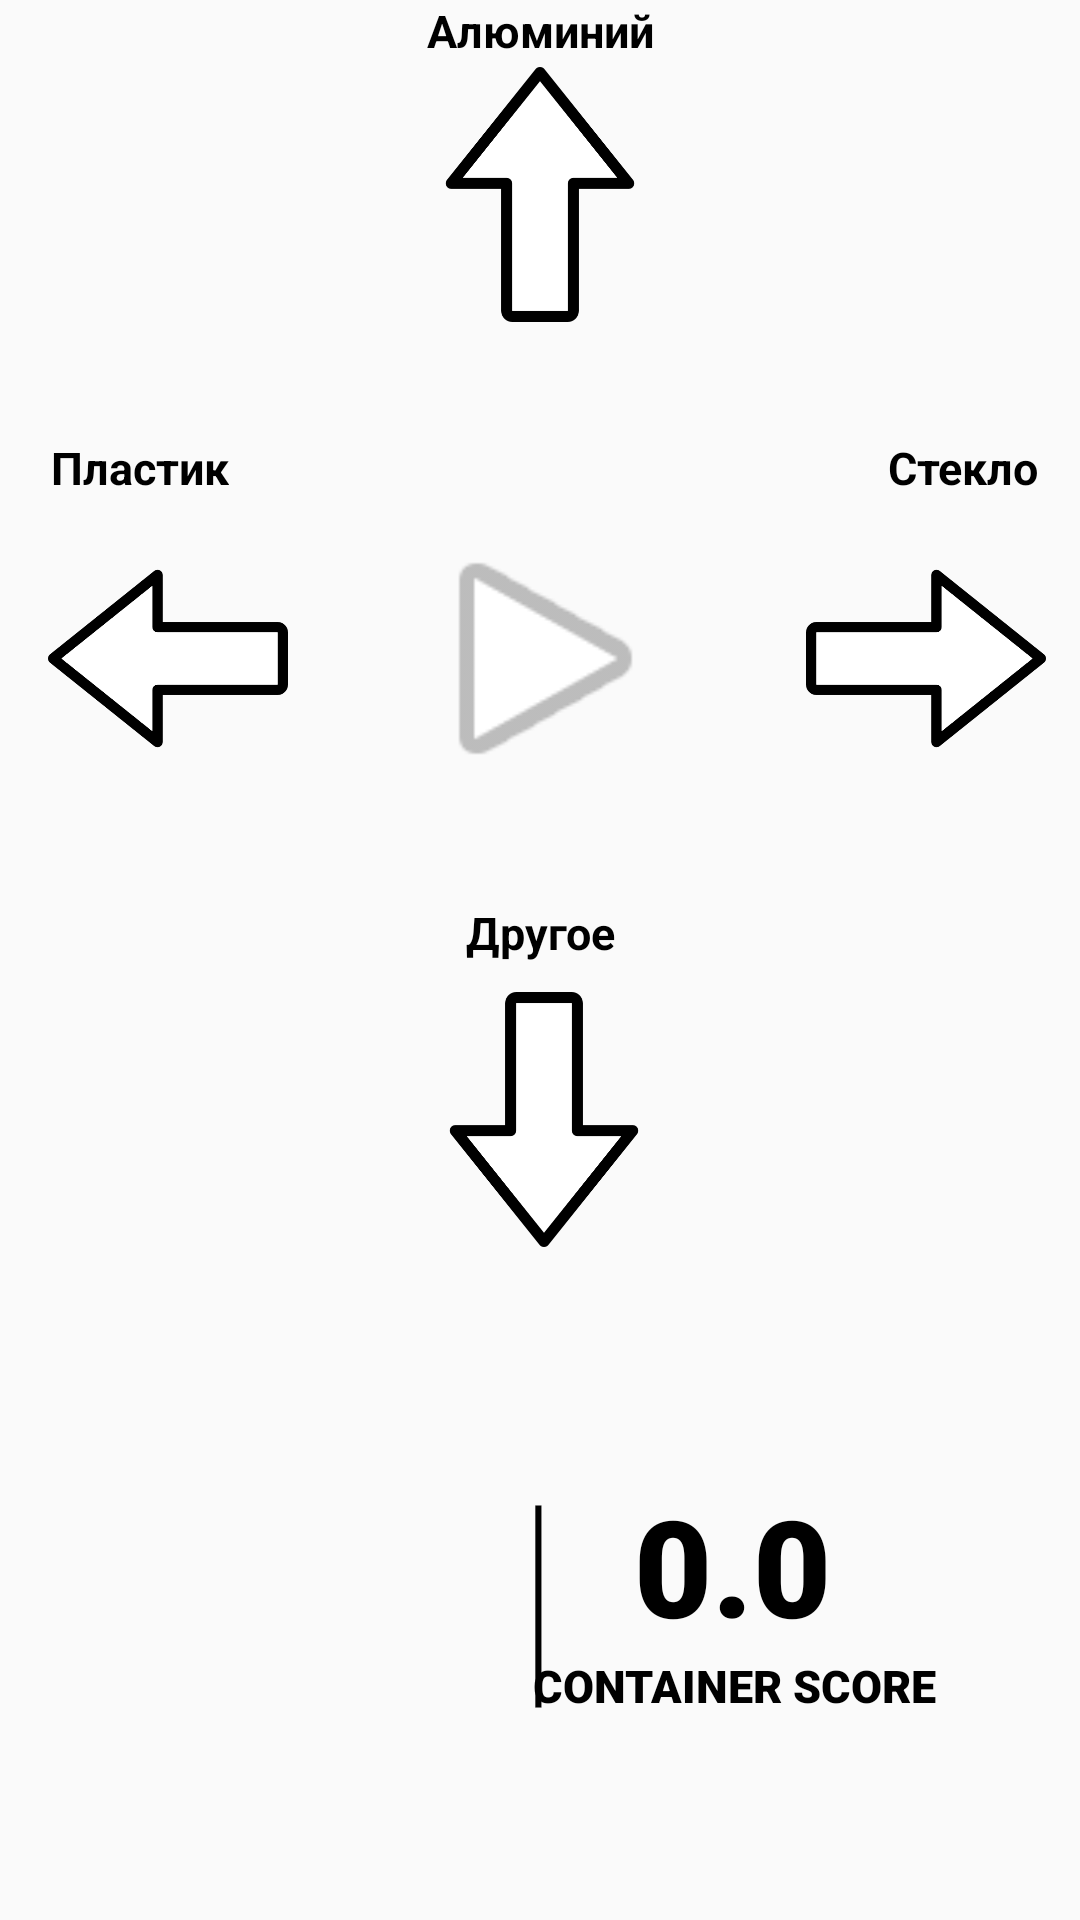

Screen size 1080px×1920px. Icon name, then its box in pixels as [left=x1, top=y1, right=x2, bottom=y2]:
down arrow: [left=449, top=992, right=639, bottom=1247]
left arrow: [left=48, top=569, right=288, bottom=748]
play: [left=459, top=563, right=632, bottom=754]
right arrow: [left=806, top=569, right=1046, bottom=748]
up arrow: [left=445, top=67, right=635, bottom=322]
